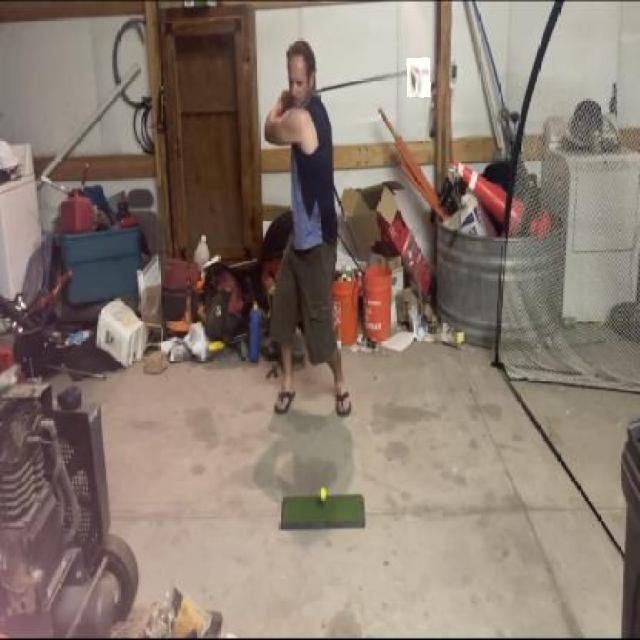club head: (407, 58, 430, 97)
